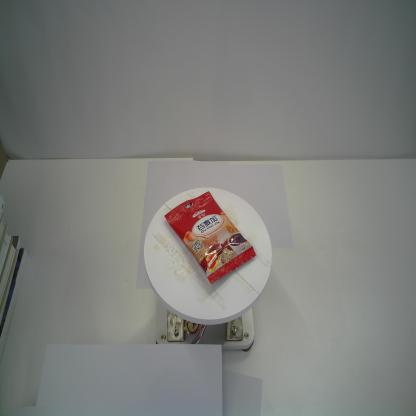Instant Drink: (164, 190, 258, 288)
